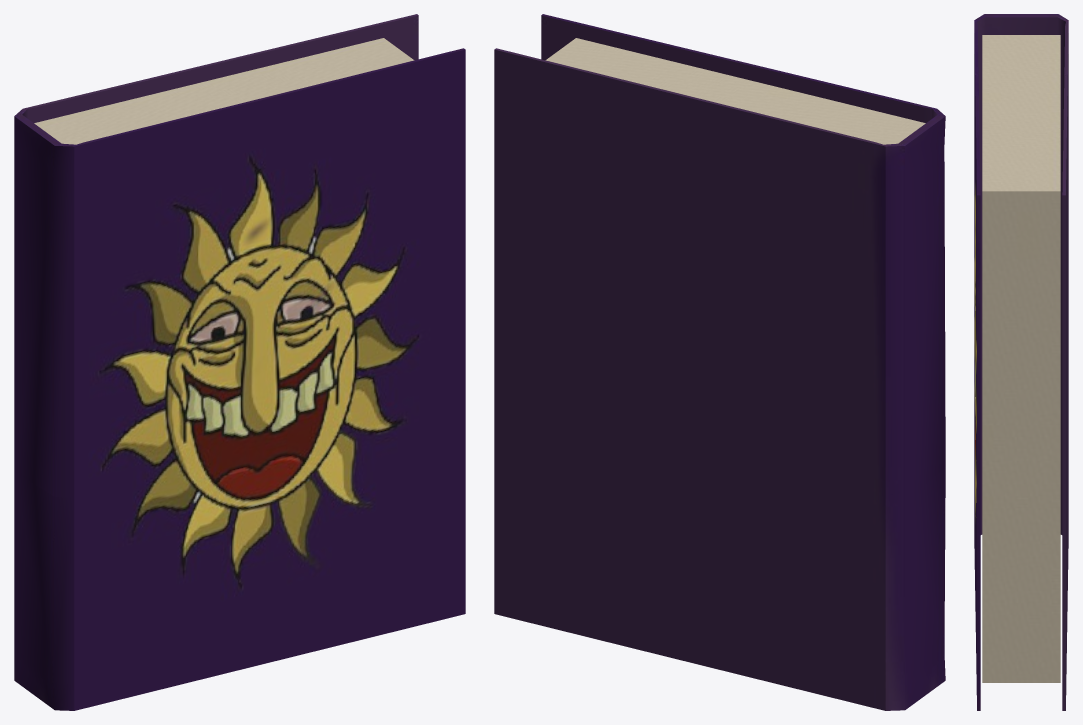
File: book.fbx
3 views of the same model, side by side, from view 1: azimuth 30°, elevation 25°; view 2: azimuth 150°, elevation 25°; view 3: azimuth 270°, elevation 25° (orthographic). The views are drawn at different scales.
Visible parts, largest first — view 1: book; view 2: book; view 3: book.
Boxes of the visible parts, bbox=[...] form: book: bbox=[14, 14, 465, 710]; book: bbox=[494, 14, 945, 710]; book: bbox=[974, 14, 1068, 710].
Size of the model in its own units: 16.69 by 22.13 by 3.67.
1 material, 1 textured.
